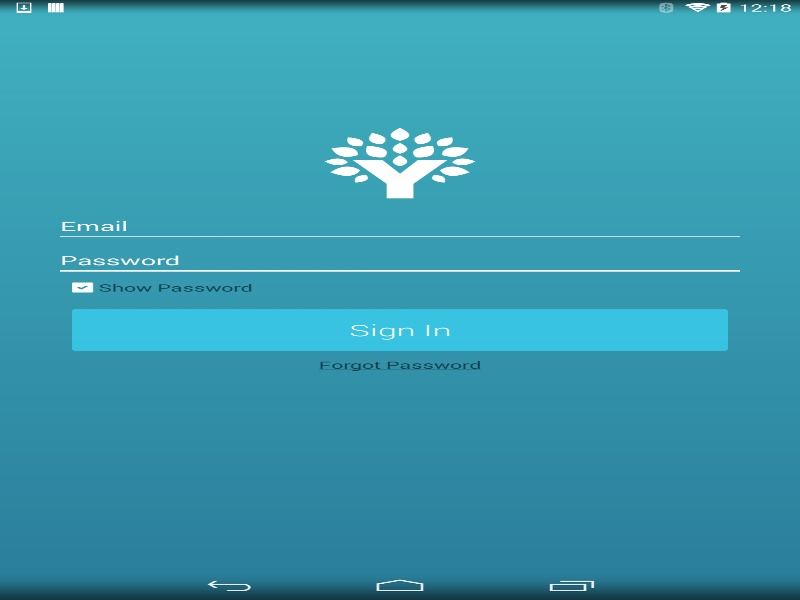Button: (72, 309, 728, 350)
Input: (54, 210, 745, 241), (54, 245, 745, 275)
